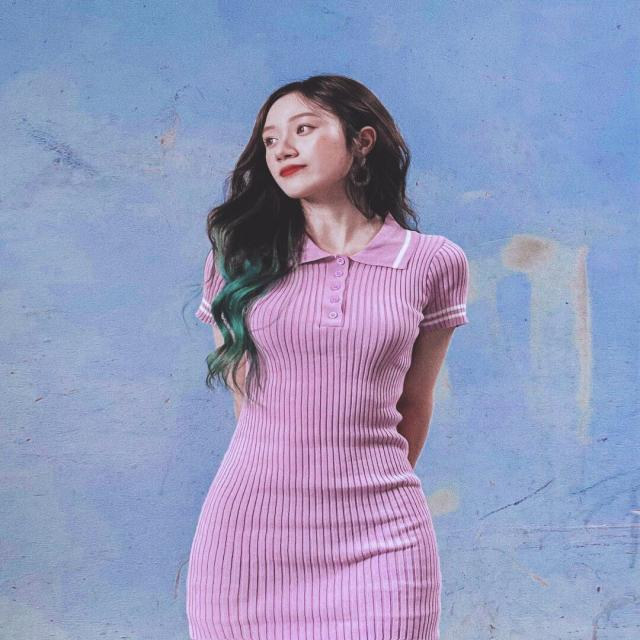clothes: (186, 212, 468, 640)
